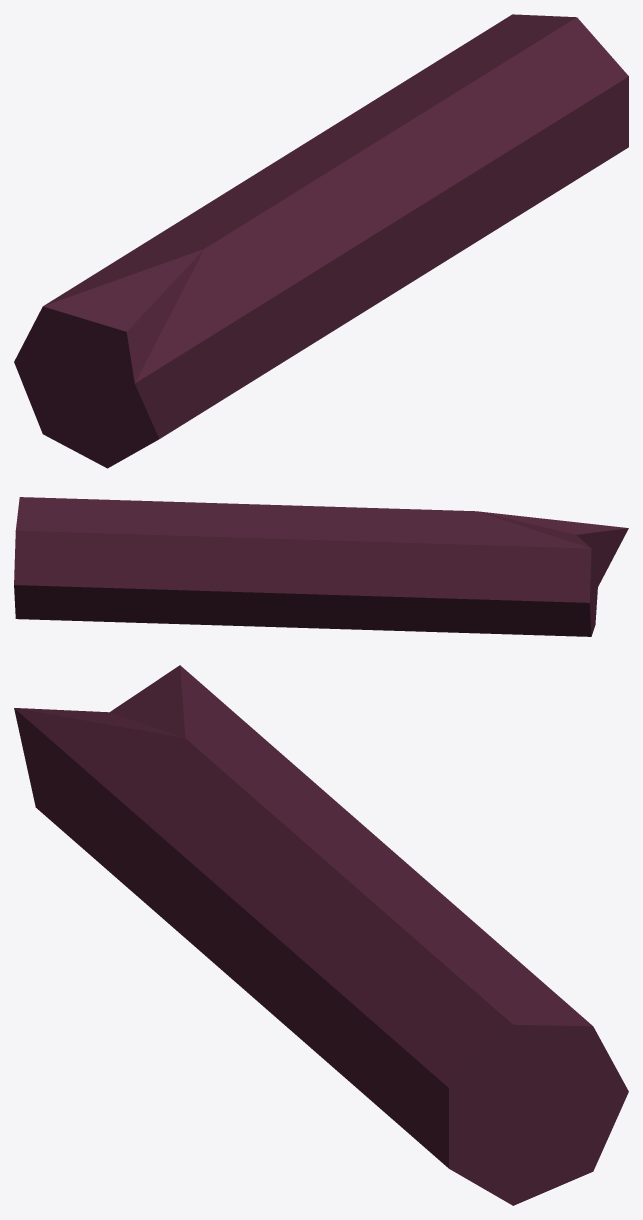
Rendered from log_005_grp.fbx.
3 renders of one model, top to bottom at view 1: azimuth 30°, elevation 25°; view 2: azimuth 150°, elevation 25°; view 3: azimuth 270°, elevation 25°, orthographic. The views are drawn at different scales.
Visible parts, largest first — view 1: log_005_grp; view 2: log_005_grp; view 3: log_005_grp.
Boxes of the visible parts, x1=… form: log_005_grp: x1=14, y1=14, x2=628, y2=468; log_005_grp: x1=14, y1=497, x2=628, y2=636; log_005_grp: x1=14, y1=665, x2=628, y2=1205.
Size of the model in its own units: 188 by 40 by 123.
